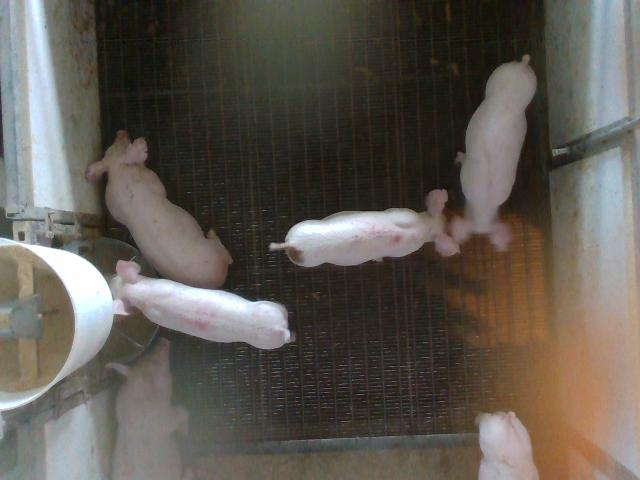pig-4: (110, 262, 294, 349)
pig-5: (270, 191, 459, 267)
